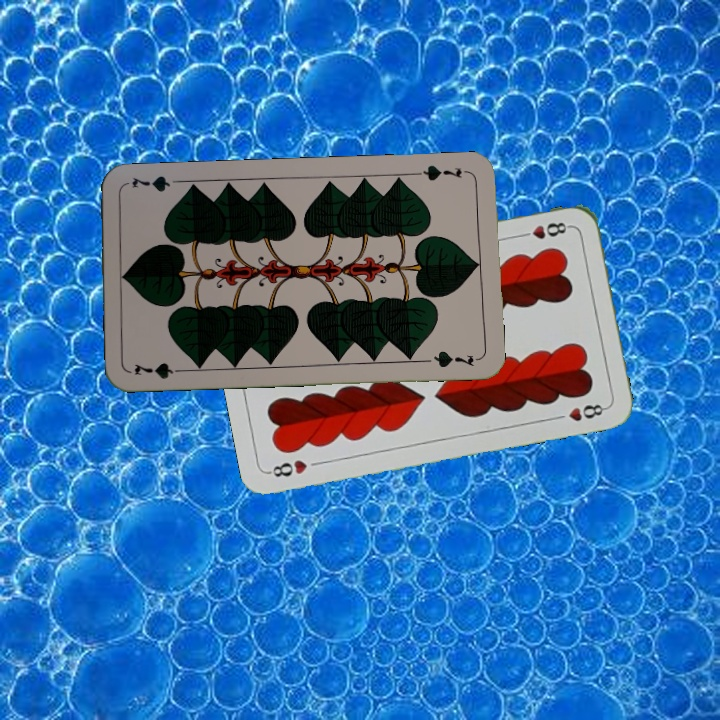G7: (130, 358, 189, 382), (413, 161, 472, 183)
H8: (514, 218, 573, 242), (265, 455, 310, 480)
